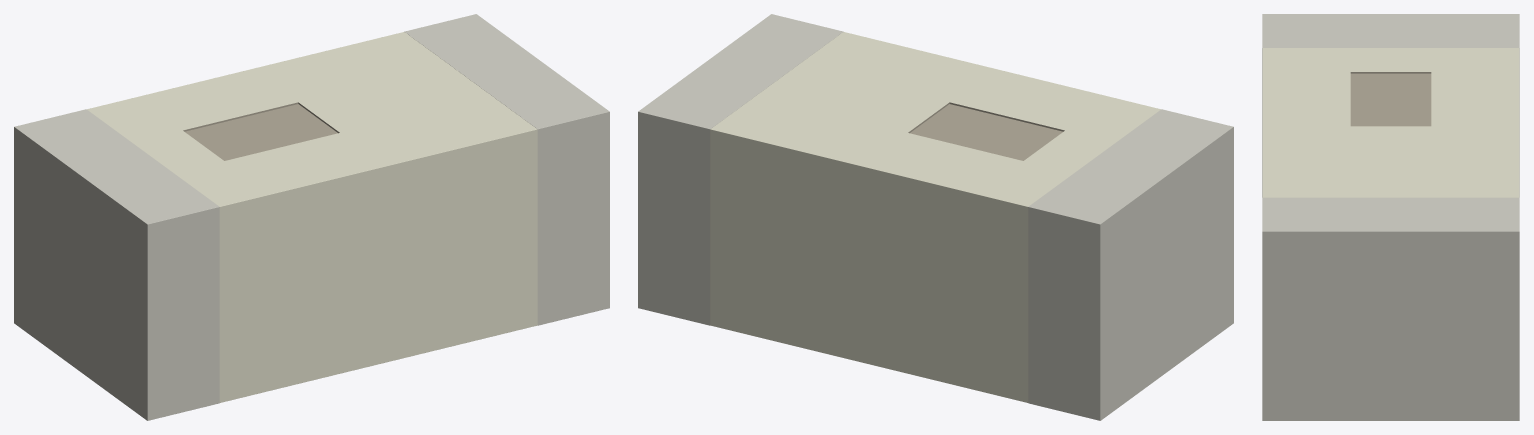
File: Johanson_2450AT18x100.normalized.glb
3 renders of one model, left to right at view 1: azimuth 30°, elevation 25°; view 2: azimuth 150°, elevation 25°; view 3: azimuth 270°, elevation 25°, orthographic. The views are drawn at different scales.
Parts seen in each view (by area): view 1: PACKAGE_CANDIDATE__Johanson_2450AT18x100.001; view 2: PACKAGE_CANDIDATE__Johanson_2450AT18x100.001; view 3: PACKAGE_CANDIDATE__Johanson_2450AT18x100.001.
Boxes of the visible parts, box(x1,y1,x2,y2) form: PACKAGE_CANDIDATE__Johanson_2450AT18x100.001: box(14, 14, 609, 420); PACKAGE_CANDIDATE__Johanson_2450AT18x100.001: box(638, 14, 1233, 420); PACKAGE_CANDIDATE__Johanson_2450AT18x100.001: box(1262, 14, 1519, 420).
Size of the model in its own units: 0.0032 by 0.0013 by 0.0016.
